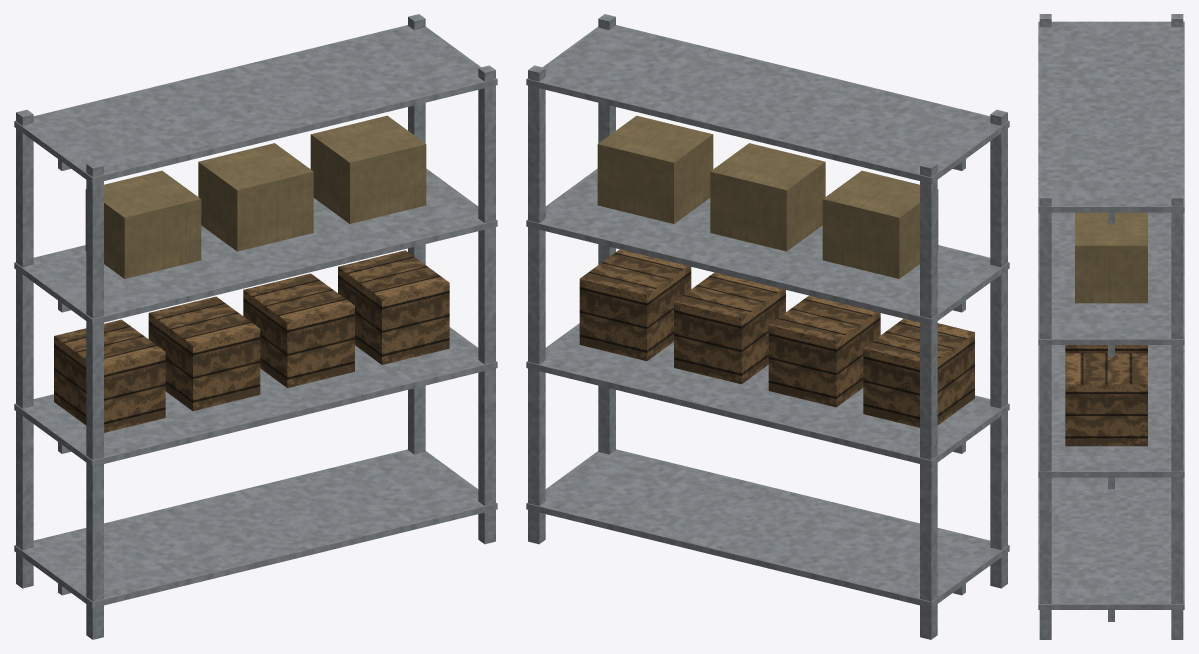
The model's file is prop.shelves.steel.glb.
The picture shows the model from 3 angles, left to right: view 1: azimuth 30°, elevation 25°; view 2: azimuth 150°, elevation 25°; view 3: azimuth 270°, elevation 25°; orthographic projection. The views are drawn at different scales.
Visible parts, largest first — view 1: prop.shelves.steel; view 2: prop.shelves.steel; view 3: prop.shelves.steel.
Boxes of the visible parts, box(x1,y1,x2,y2) form: prop.shelves.steel: box(14, 14, 497, 639); prop.shelves.steel: box(526, 14, 1009, 639); prop.shelves.steel: box(1038, 14, 1184, 639).
Size of the model in its own units: 1.8 by 2 by 0.6.
Materials: 3 (3 with a texture image).
